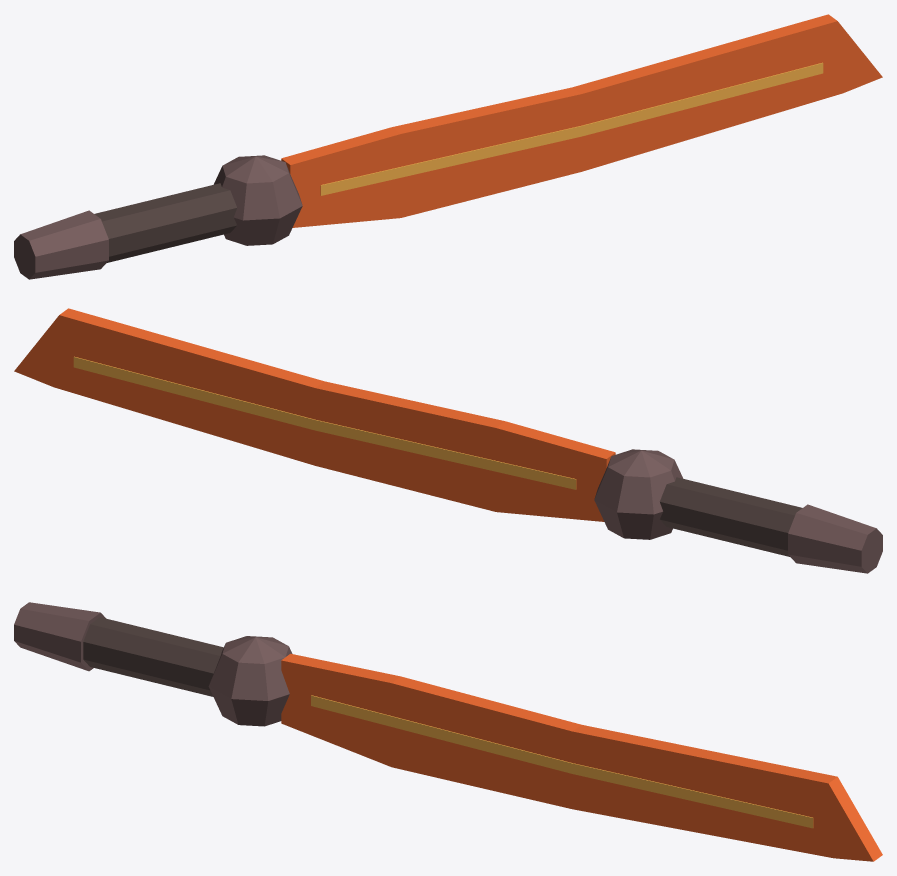
The model's file is persona_plasmasword.obj.
3 renders of one model, top to bottom at view 1: azimuth 30°, elevation 25°; view 2: azimuth 150°, elevation 25°; view 3: azimuth 330°, elevation 25°, orthographic.
Visible parts, largest first — view 1: persona_plasmasword; view 2: persona_plasmasword; view 3: persona_plasmasword.
Boxes of the visible parts, bbox=[...] form: persona_plasmasword: bbox=[14, 14, 882, 279]; persona_plasmasword: bbox=[14, 308, 882, 573]; persona_plasmasword: bbox=[14, 602, 882, 861].
Bounding box in the file's own units: 0.85 × 0.088 × 0.084.
